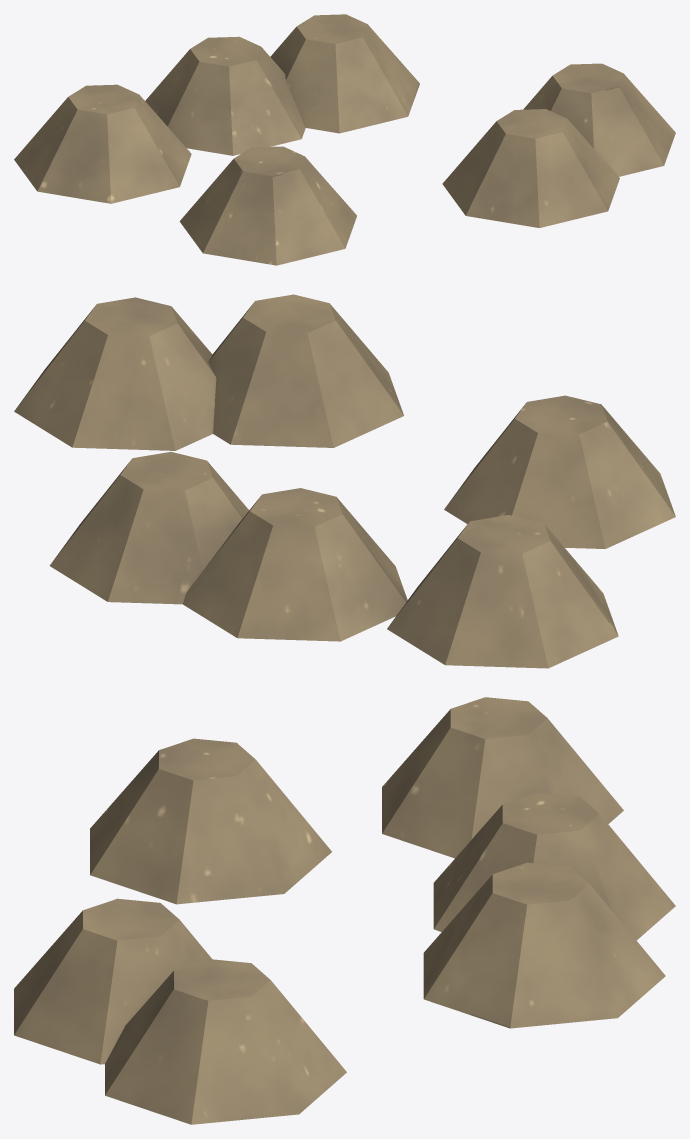
The model's file is jazida_areia.glb.
The picture shows the model from 3 angles, top to bottom: view 1: azimuth 30°, elevation 25°; view 2: azimuth 150°, elevation 25°; view 3: azimuth 270°, elevation 25°; orthographic projection. The views are drawn at different scales.
Visible parts, largest first — view 1: jazida_areia; view 2: jazida_areia; view 3: jazida_areia.
Boxes of the visible parts, bbox=[...] form: jazida_areia: bbox=[14, 14, 675, 265]; jazida_areia: bbox=[14, 294, 675, 668]; jazida_areia: bbox=[14, 697, 675, 1124].
Bounding box in the file's own units: 0.6812 × 0.08 × 0.5196.
Materials: 1 (1 with a texture image).
